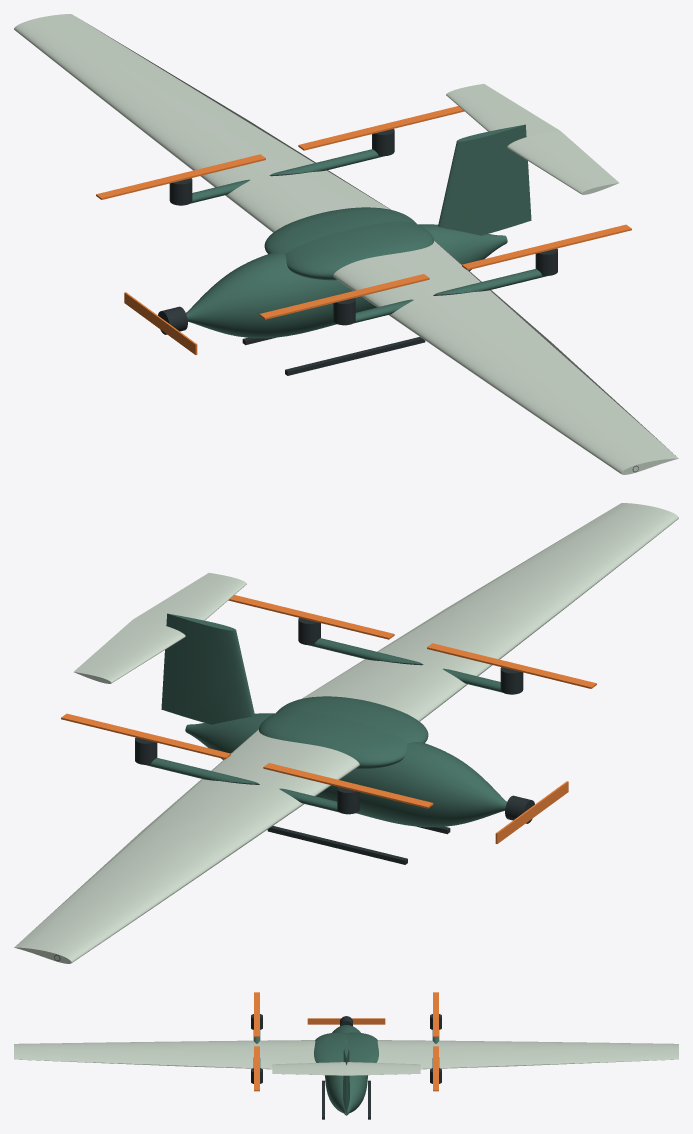
Rendered from surface_tools-07-model.glb.
3 views of the same model, one above another, from view 1: azimuth 30°, elevation 25°; view 2: azimuth 150°, elevation 25°; view 3: azimuth 270°, elevation 25° (orthographic). The views are drawn at different scales.
Visible parts, largest first — view 1: wing-1, wing1, fuselage, fin, root_fairing-1, tail-1, root_fairing1, tail1, boom_fairing-1, boom_fairing1, prop_-1_200.0, prop_-1_700.0 (+4 smaller); view 2: wing1, wing-1, fuselage, fin, root_fairing1, tail1, root_fairing-1, tail-1, boom_fairing1, boom_fairing-1, prop_1_200.0, prop_1_700.0 (+4 smaller); view 3: wing-1, wing1, fuselage, tail-1, tail1, root_fairing-1, root_fairing1, cruise_prop, fin, prop_-1_200.0, prop_-1_700.0, prop_1_200.0 (+1 smaller).
Boxes of the visible parts, x1=… form: wing-1: x1=333, y1=240, x2=678, y2=474; wing1: x1=14, y1=14, x2=390, y2=232; fuselage: x1=186, y1=224, x2=507, y2=338; fin: x1=438, y1=124, x2=531, y2=235; root_fairing-1: x1=285, y1=221, x2=433, y2=280; tail-1: x1=507, y1=130, x2=618, y2=194; root_fairing1: x1=264, y1=207, x2=416, y2=254; tail1: x1=446, y1=84, x2=559, y2=136; boom_fairing-1: x1=354, y1=269, x2=546, y2=323; boom_fairing1: x1=190, y1=149, x2=383, y2=203; prop_-1_200.0: x1=259, y1=274, x2=429, y2=319; prop_-1_700.0: x1=462, y1=224, x2=631, y2=270; wing1: x1=14, y1=729, x2=359, y2=963; wing-1: x1=302, y1=503, x2=678, y2=721; fuselage: x1=185, y1=713, x2=506, y2=827; fin: x1=161, y1=613, x2=254, y2=724; root_fairing1: x1=259, y1=710, x2=407, y2=769; tail1: x1=74, y1=619, x2=185, y2=683; root_fairing-1: x1=276, y1=696, x2=428, y2=743; tail-1: x1=133, y1=573, x2=246, y2=625; boom_fairing1: x1=146, y1=758, x2=338, y2=812; boom_fairing-1: x1=309, y1=638, x2=502, y2=692; prop_1_200.0: x1=263, y1=763, x2=433, y2=808; prop_1_700.0: x1=61, y1=713, x2=230, y2=759; wing-1: x1=14, y1=1040, x2=315, y2=1069; wing1: x1=377, y1=1040, x2=678, y2=1069; fuselage: x1=325, y1=1025, x2=367, y2=1115; tail-1: x1=272, y1=1062, x2=346, y2=1075; tail1: x1=346, y1=1062, x2=420, y2=1075; root_fairing-1: x1=314, y1=1032, x2=346, y2=1062; root_fairing1: x1=346, y1=1032, x2=378, y2=1062; cruise_prop: x1=307, y1=1018, x2=385, y2=1024; fin: x1=343, y1=1040, x2=349, y2=1112; prop_-1_200.0: x1=254, y1=992, x2=259, y2=1037; prop_-1_700.0: x1=254, y1=1046, x2=259, y2=1091; prop_1_200.0: x1=433, y1=992, x2=438, y2=1037.
Size of the model in its own units: 989 by 405 by 2600.
